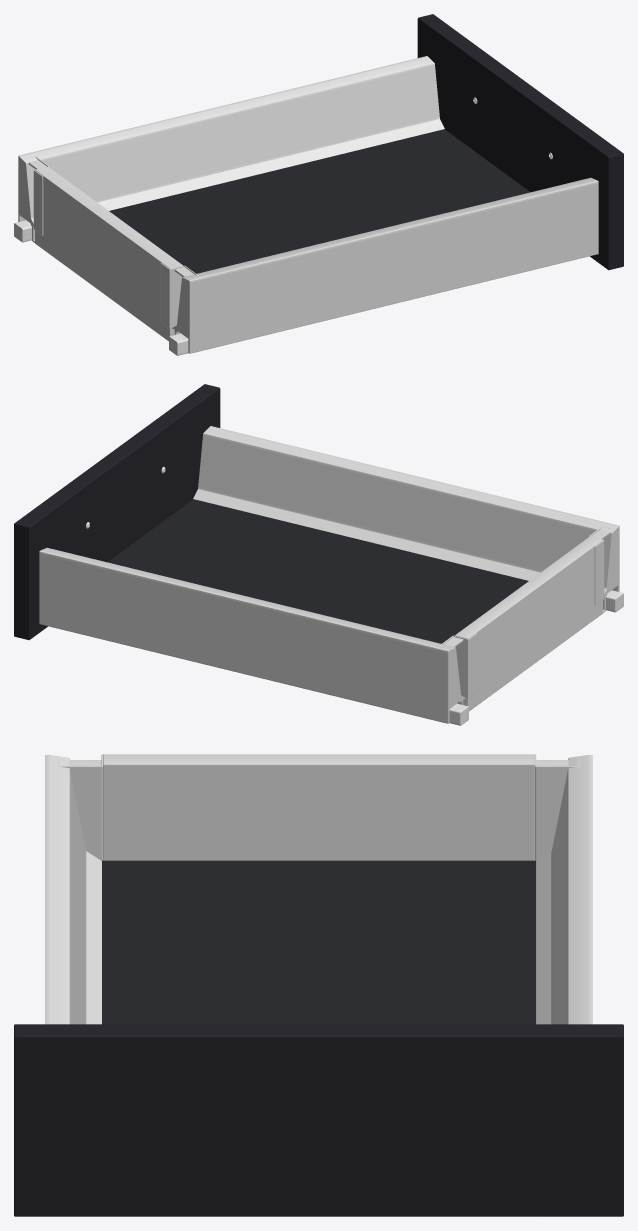
The model's file is Kitchen10Drawer01.fbx.
3 views of the same model, one above another, from view 1: azimuth 30°, elevation 25°; view 2: azimuth 150°, elevation 25°; view 3: azimuth 270°, elevation 25° (orthographic). The views are drawn at different scales.
Parts seen in each view (by area): view 1: Kitchen10Drawer01; view 2: Kitchen10Drawer01; view 3: Kitchen10Drawer01.
Boxes of the visible parts, x1,y1,x2,y2 form: Kitchen10Drawer01: [14, 14, 623, 355]; Kitchen10Drawer01: [14, 384, 623, 725]; Kitchen10Drawer01: [14, 754, 623, 1216].
Bounding box in the file's own units: 51.99 × 39.7 × 13.
Materials: 4 (1 with a texture image).
